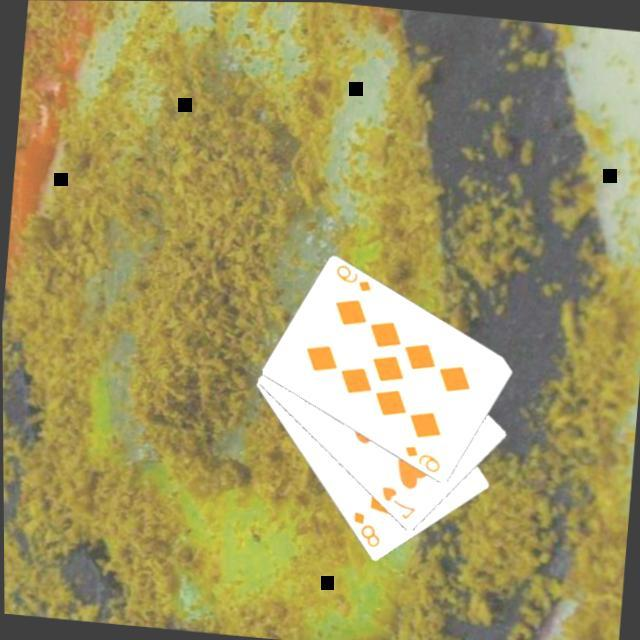7H: (372, 480, 418, 522)
8D: (344, 506, 382, 550)
9D: (396, 440, 442, 476), (328, 258, 373, 294)
